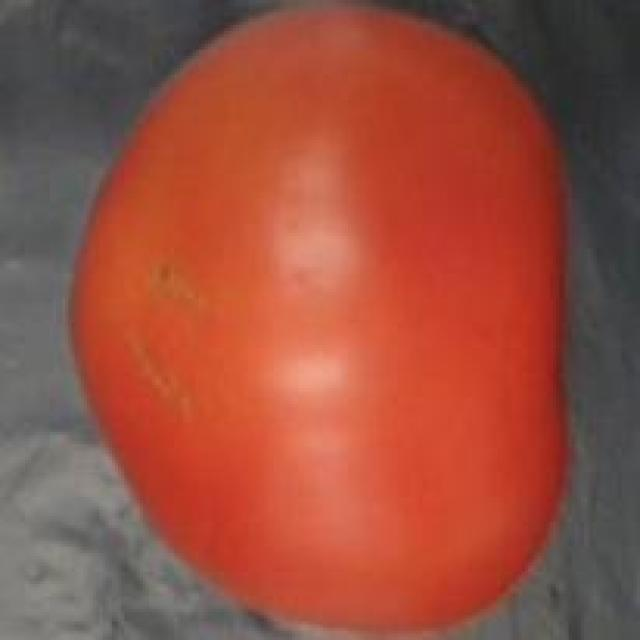ripe tomato: (50, 0, 581, 640)
